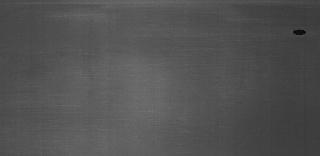punching hole: (292, 28, 308, 36)
